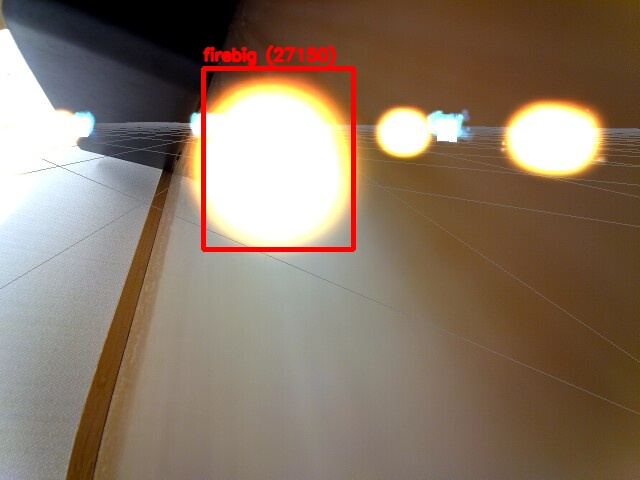firebig: (203, 68, 353, 249)
